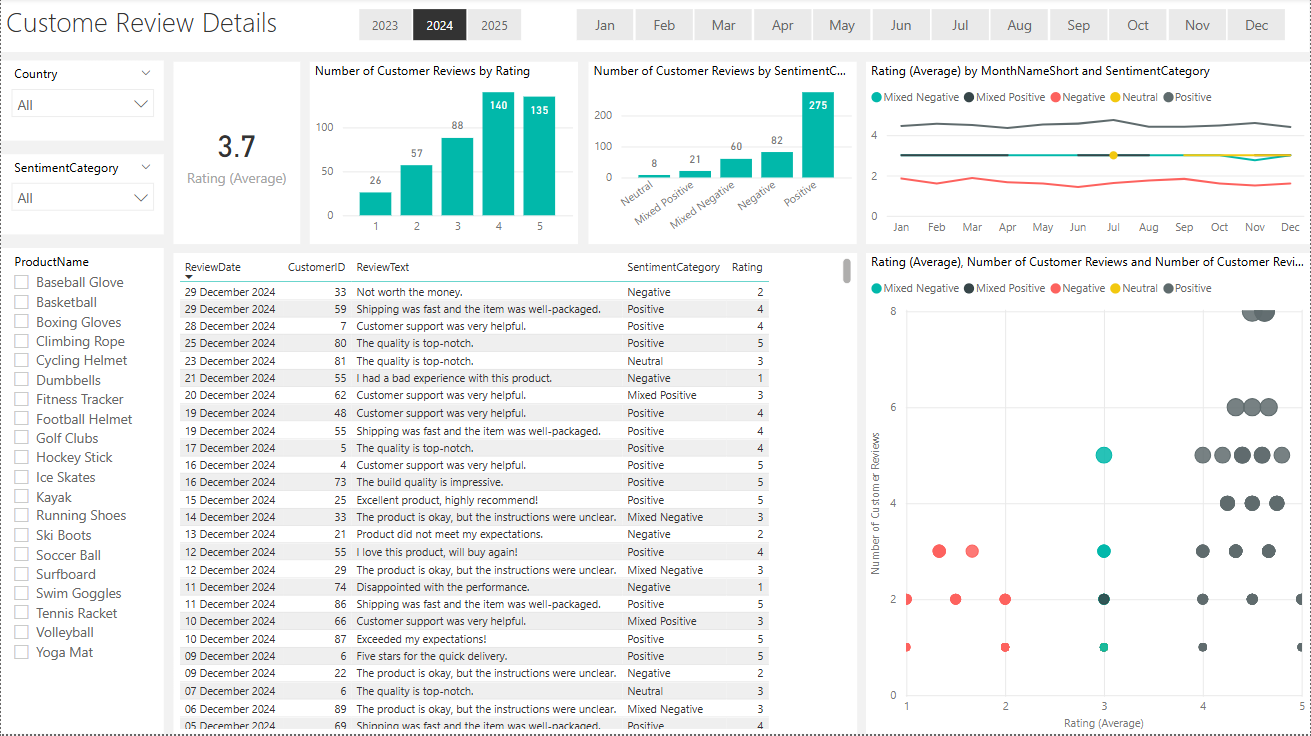

The page's visual inventory and layout, read from the dashboard file:
{"tool":"powerbi","page":{"name":"Customer Review Details","canvas":[1280,720],"ordinal":3},"visuals":[{"type":"textbox","box":[0,0,1280,52.6],"z":0},{"type":"slicer","fields":{"Values":["dim_products.ProductName"]},"box":[0,244.2,159.3,475.3],"z":1000},{"type":"card","fields":{"Values":["_Calculations.Rating (Average)"]},"box":[168.5,61.9,123.8,178.5],"z":2000},{"type":"slicer","fields":{"Values":["Calendar.MonthNameShort"]},"box":[536.8,4.1,743.2,44.4],"z":3000},{"type":"lineChart","fields":{"Category":["Calendar.MonthNameShort"],"Y":["_Calculations.Rating (Average)"],"Series":["fact_customer_reviews_with_sentiment.SentimentCategory"]},"box":[846.2,62,434.1,178.4],"z":4000},{"type":"slicer","fields":{"Values":["Calendar.Year"]},"box":[324.1,4.1,208.5,44.4],"z":5000},{"type":"tableEx","fields":{"Values":["fact_customer_reviews_with_sentiment.ReviewDate","fact_customer_reviews_with_sentiment.CustomerID","fact_customer_reviews_with_sentiment.ReviewText","fact_customer_reviews_with_sentiment.SentimentCategory","fact_customer_reviews_with_sentiment.Rating"]},"box":[168.5,249.5,668.4,470.8],"z":6000},{"type":"columnChart","fields":{"Category":["fact_customer_reviews_with_sentiment.Rating"],"Y":["_Calculations.Number of Customer Reviews"]},"box":[302.4,62,262.4,178.4],"z":7000},{"type":"columnChart","fields":{"Category":["fact_customer_reviews_with_sentiment.SentimentCategory"],"Y":["_Calculations.Number of Customer Reviews"]},"box":[574.3,62,262.4,178.4],"z":8000},{"type":"slicer","fields":{"Values":["dim_customers.Country"]},"box":[0,61.4,159.3,78.3],"z":9000},{"type":"slicer","fields":{"Values":["fact_customer_reviews_with_sentiment.SentimentCategory"]},"box":[0,152.8,159.3,78.3],"z":10000},{"type":"scatterChart","fields":{"Category":["dim_customers.CustomerID"],"Series":["fact_customer_reviews_with_sentiment.SentimentCategory"],"X":["_Calculations.Rating (Average)"],"Y":["_Calculations.Number of Customer Reviews"],"Size":["_Calculations.Number of Customer Reviews"]},"box":[846,249.5,434.4,470.8],"z":11000}]}

Visuals, with their boxes in screenshot pixels (x1, y1, x2, y2), scaled from the page's 1280x720 canvas onto the 1311x736 screenshot:
textbox: [0, 0, 1310, 54]
slicer - dim_products.ProductName: [0, 250, 163, 735]
card - _Calculations.Rating (Average): [173, 63, 299, 246]
slicer - Calendar.MonthNameShort: [550, 4, 1310, 50]
lineChart - Calendar.MonthNameShort x _Calculations.Rating (Average): [867, 63, 1310, 246]
slicer - Calendar.Year: [332, 4, 545, 50]
tableEx - fact_customer_reviews_with_sentiment.ReviewDate x fact_customer_reviews_with_sentiment.CustomerID: [173, 255, 857, 735]
columnChart - fact_customer_reviews_with_sentiment.Rating x _Calculations.Number of Customer Reviews: [310, 63, 578, 246]
columnChart - fact_customer_reviews_with_sentiment.SentimentCategory x _Calculations.Number of Customer Reviews: [588, 63, 857, 246]
slicer - dim_customers.Country: [0, 63, 163, 143]
slicer - fact_customer_reviews_with_sentiment.SentimentCategory: [0, 156, 163, 236]
scatterChart - dim_customers.CustomerID x fact_customer_reviews_with_sentiment.SentimentCategory: [866, 255, 1310, 735]
